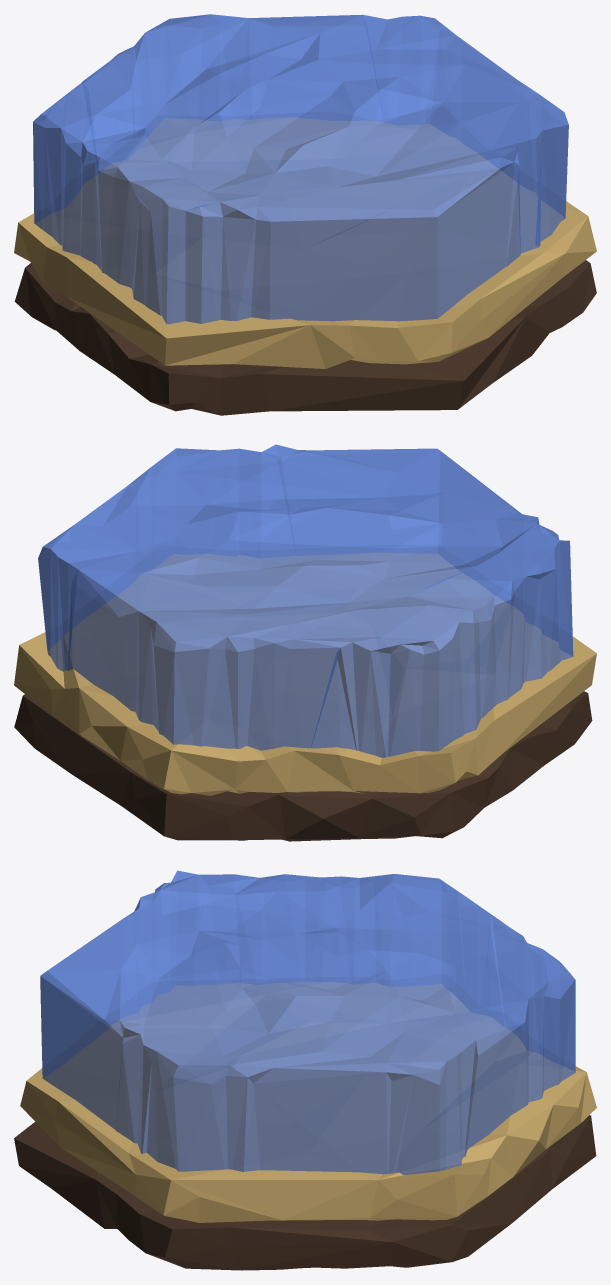
File: water.fbx
3 views of the same model, one above another, from view 1: azimuth 30°, elevation 25°; view 2: azimuth 150°, elevation 25°; view 3: azimuth 270°, elevation 25° (orthographic).
Visible parts, largest first — view 1: water; view 2: water; view 3: water.
Part boxes in pixels (x1,y1,x2,y2): water: [14, 14, 596, 415]; water: [14, 444, 596, 841]; water: [14, 870, 596, 1270].
Bounding box in the file's own units: 977 × 454 × 1125.
